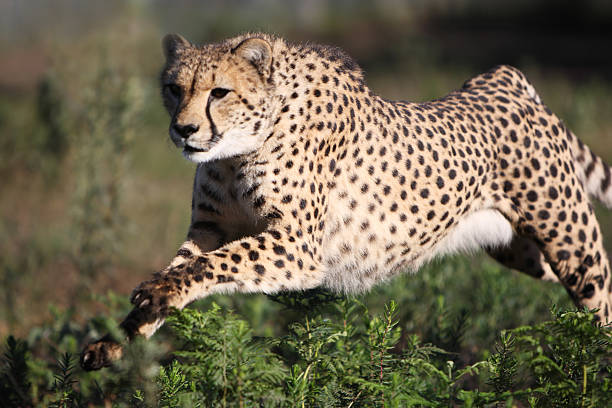cheetah: (138, 18, 295, 172)
